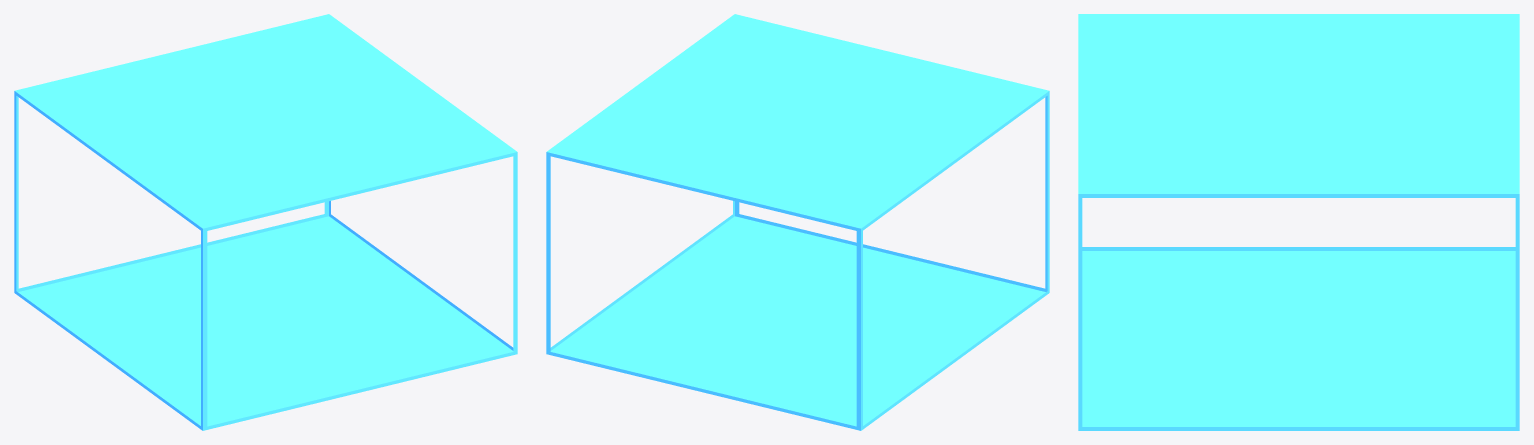
File: CombinedMesh-MeshBaker (5)-mesh.fbx
3 renders of one model, left to right at view 1: azimuth 30°, elevation 25°; view 2: azimuth 150°, elevation 25°; view 3: azimuth 270°, elevation 25°, orthographic. The views are drawn at different scales.
Parts seen in each view (by area): view 1: MeshBaker__4__mesh_mesh; view 2: MeshBaker__4__mesh_mesh; view 3: MeshBaker__4__mesh_mesh.
Part boxes in pixels (x1,y1,x2,y2): MeshBaker__4__mesh_mesh: (14, 14, 517, 430); MeshBaker__4__mesh_mesh: (546, 14, 1049, 430); MeshBaker__4__mesh_mesh: (1078, 14, 1519, 430).
Size of the model in its own units: 983 by 604 by 1020.
